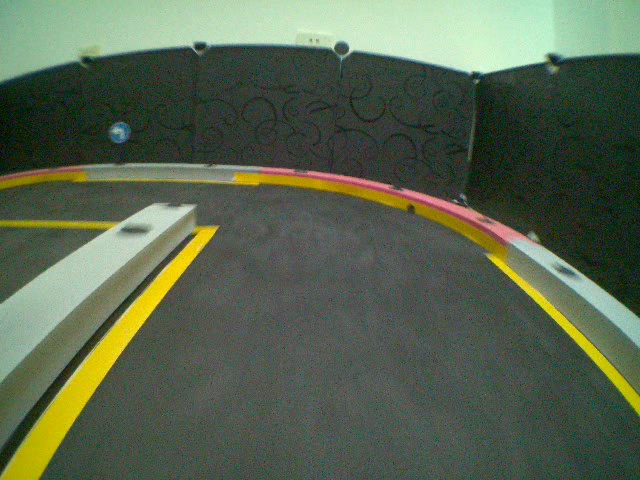turn: (107, 121, 131, 145)
